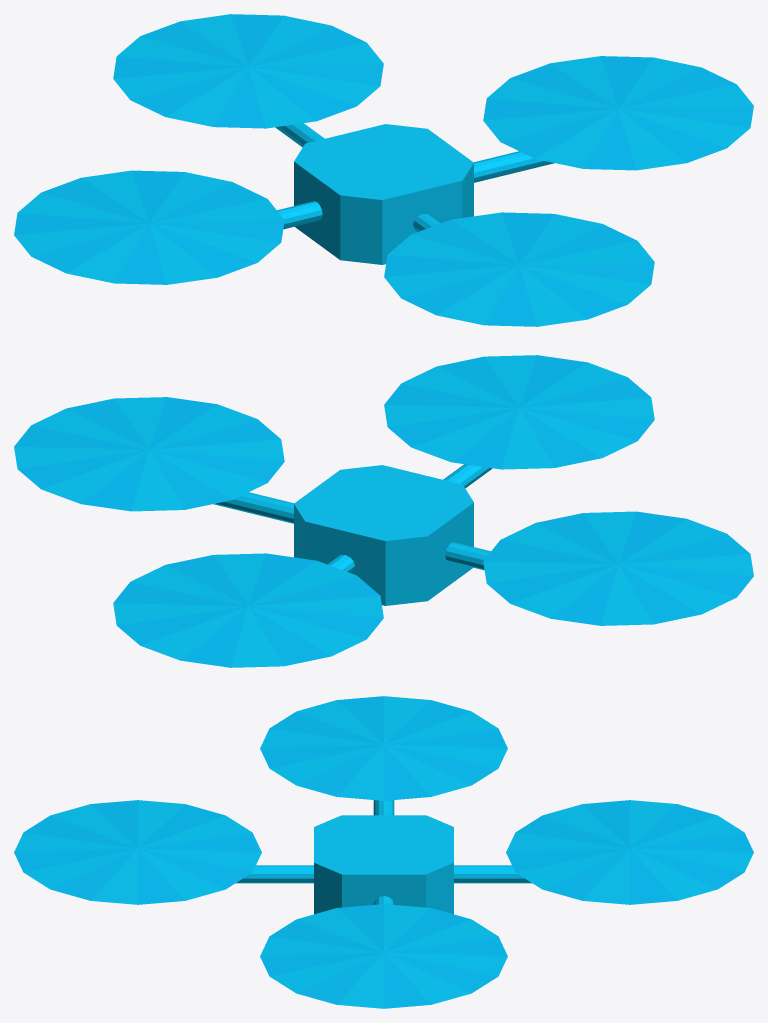
File: quadcopter.dae
3 views of the same model, one above another, from view 1: azimuth 30°, elevation 25°; view 2: azimuth 150°, elevation 25°; view 3: azimuth 270°, elevation 25° (orthographic). The views are drawn at different scales.
Visible parts, largest first — view 1: QuadrotorMainBody; view 2: QuadrotorMainBody; view 3: QuadrotorMainBody.
Part boxes in pixels (x1=…): QuadrotorMainBody: x1=14, y1=14, x2=753, y2=326; QuadrotorMainBody: x1=14, y1=355, x2=753, y2=667; QuadrotorMainBody: x1=14, y1=696, x2=753, y2=1008.
Size of the model in its own units: 1.41 by 1.41 by 0.1242.
